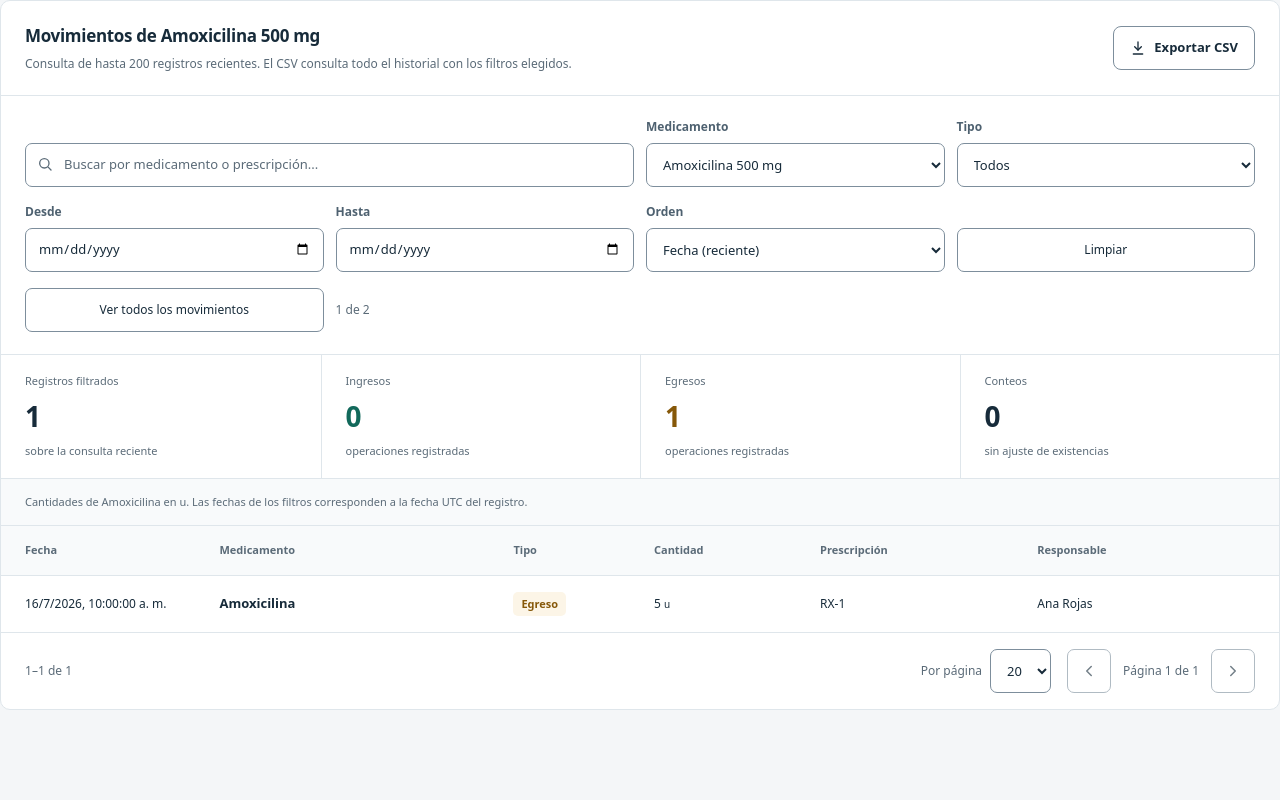
Test case: MovementsTab › abre con el medicamento indicado y permite volver a todos
Expected: the heading "Movimientos de Amoxicilina 500 mg" is shown, 25,24 -> 320,47
Expected: the text "Ibuprofeno" is not shown
Click the button "Ver todos los movimientos" at (174, 310), box 25,288 -> 324,332
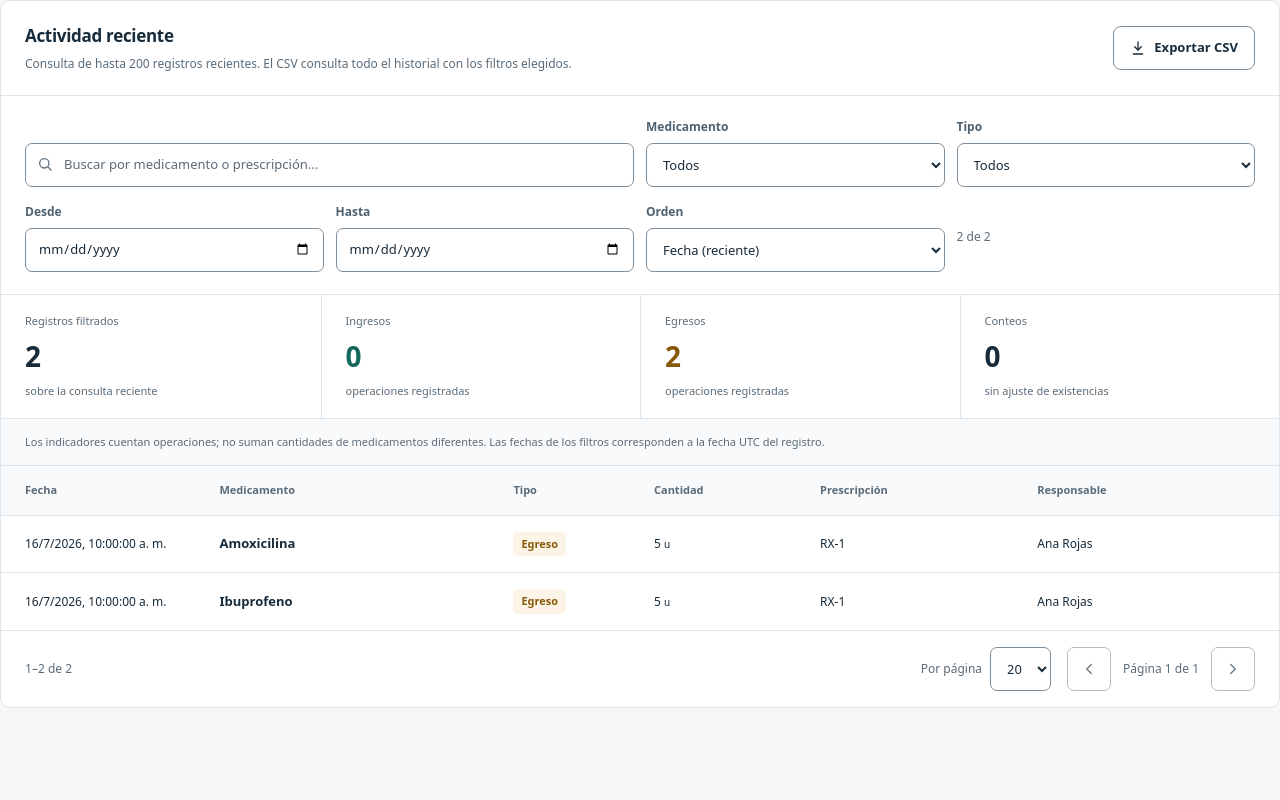
Expected: the text "Ibuprofeno" is shown, 220,592 -> 293,610
